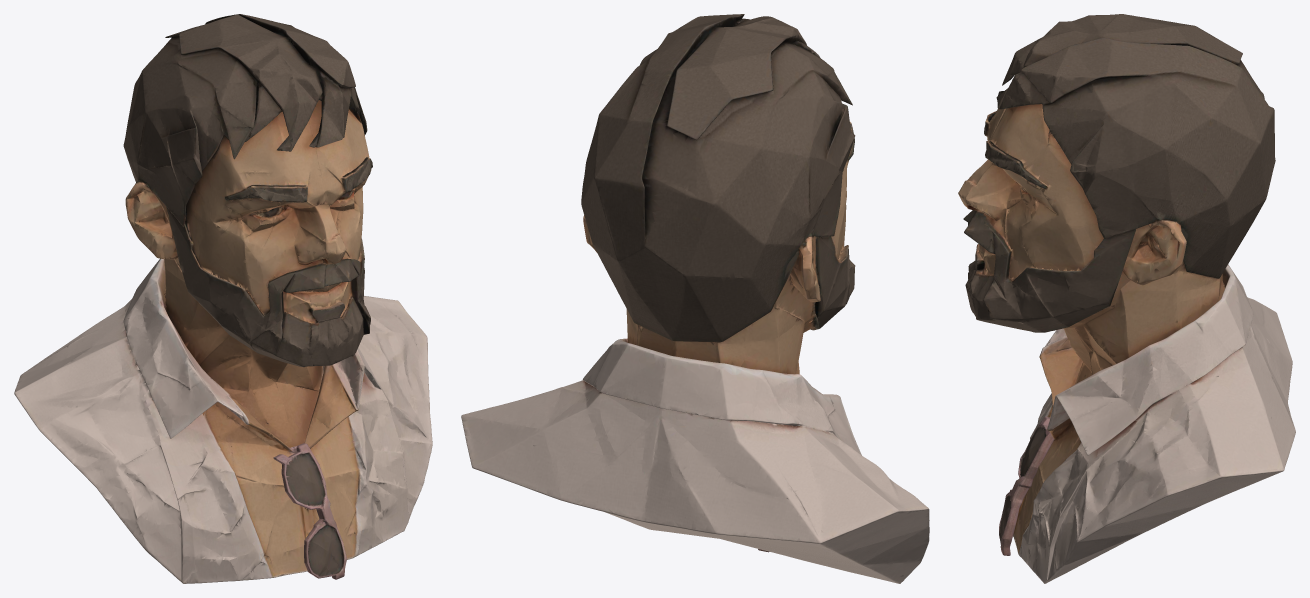
Rendered from mothi-face-cardboard.glb.
The picture shows the model from 3 angles, left to right: view 1: azimuth 30°, elevation 25°; view 2: azimuth 150°, elevation 25°; view 3: azimuth 270°, elevation 25°; orthographic projection. The views are drawn at different scales.
Parts seen in each view (by area): view 1: tripo_node_165745e2.001; view 2: tripo_node_165745e2.001; view 3: tripo_node_165745e2.001.
Part boxes in pixels (x1,y1,x2,y2): tripo_node_165745e2.001: (14, 14, 432, 583); tripo_node_165745e2.001: (461, 14, 929, 583); tripo_node_165745e2.001: (958, 14, 1295, 583).
Size of the model in its own units: 0.7807 by 0.9689 by 0.5756.
1 material, 1 textured.
